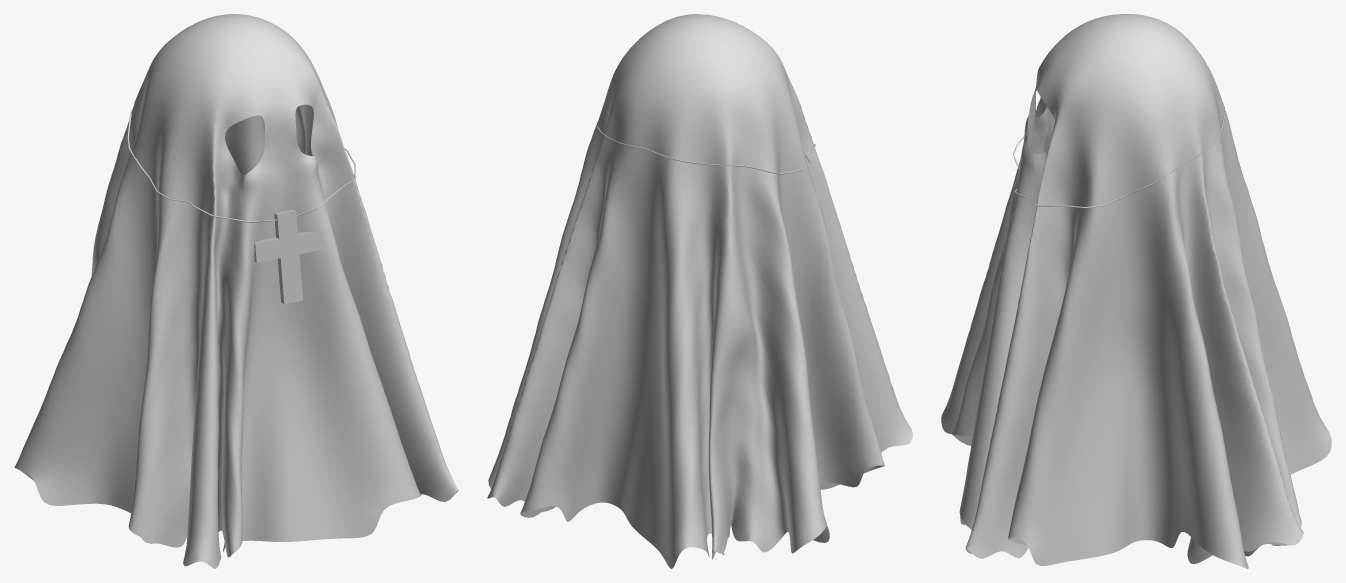
File: GhostCross.fbx
The picture shows the model from 3 angles, left to right: view 1: azimuth 30°, elevation 25°; view 2: azimuth 150°, elevation 25°; view 3: azimuth 270°, elevation 25°; orthographic projection. The views are drawn at different scales.
Parts seen in each view (by area): view 1: Untitled; view 2: Untitled; view 3: Untitled.
Boxes of the visible parts, x1,y1,x2,y2 form: Untitled: [14, 14, 458, 568]; Untitled: [487, 14, 912, 568]; Untitled: [941, 14, 1331, 568].
Bounding box in the file's own units: 99.43 × 139 × 101.
